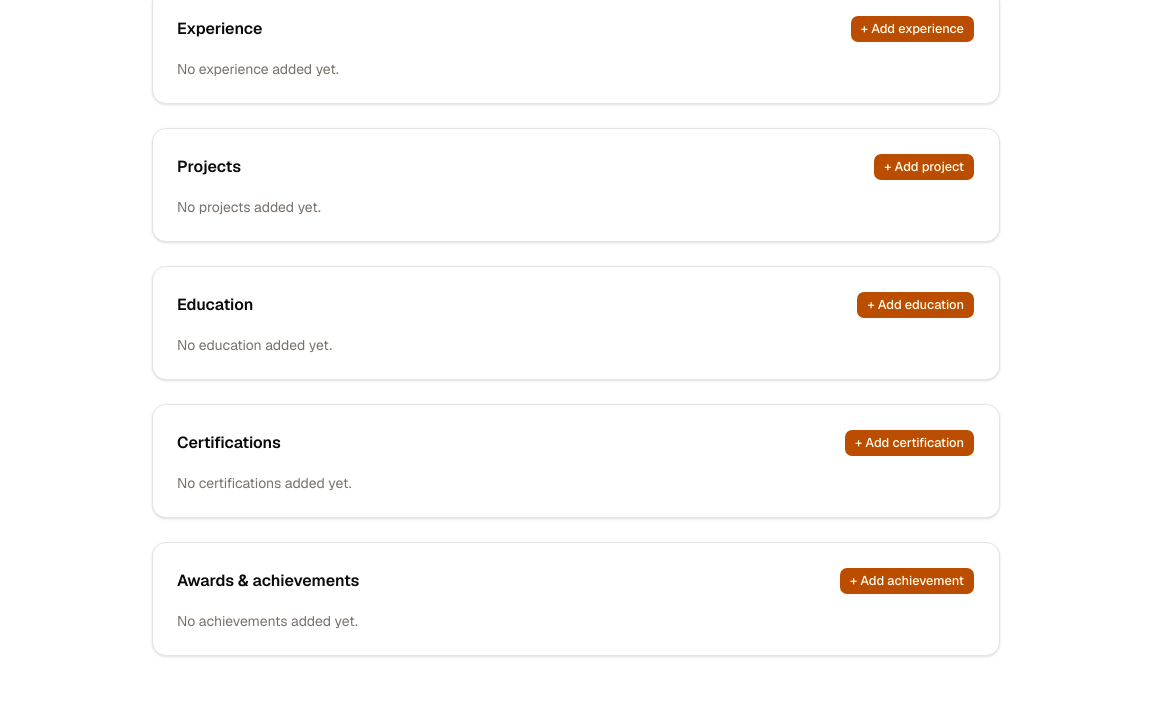
Test case: ProfilePage › shows an error message when adding an achievement fails, without crashing the page
(page scrolled)
Expected: the text "No achievements added yet." is shown, [177,612,358,630]
Click the button "+ Add achievement" at (907, 581), box [839,567,975,595]
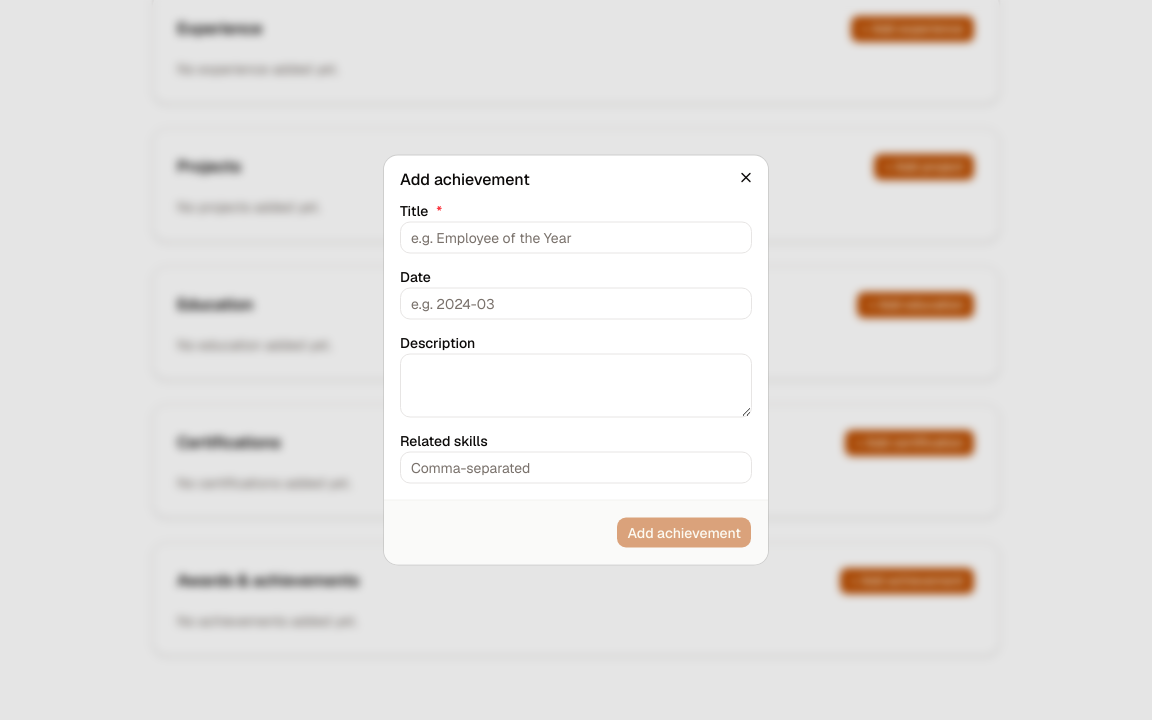
Type "New Award" into the field labelled "Title *" at (576, 238), box [400,222,752,254]
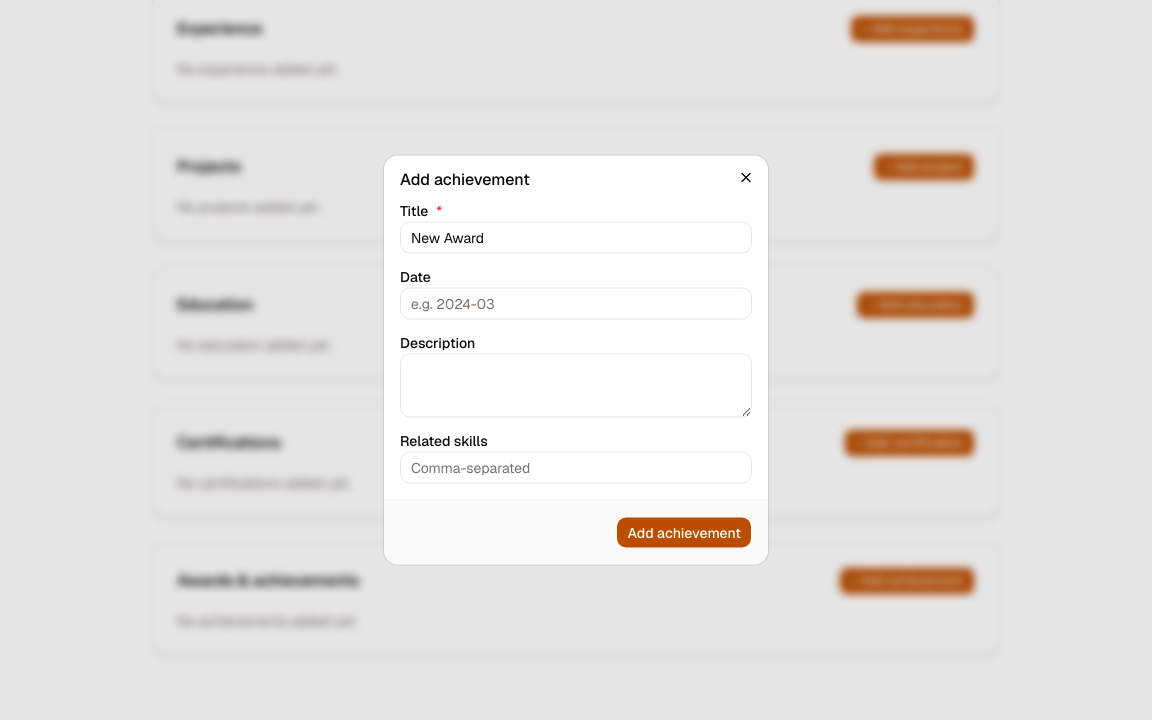
Click the button "Add achievement" at (684, 532), box [616,516,752,548]
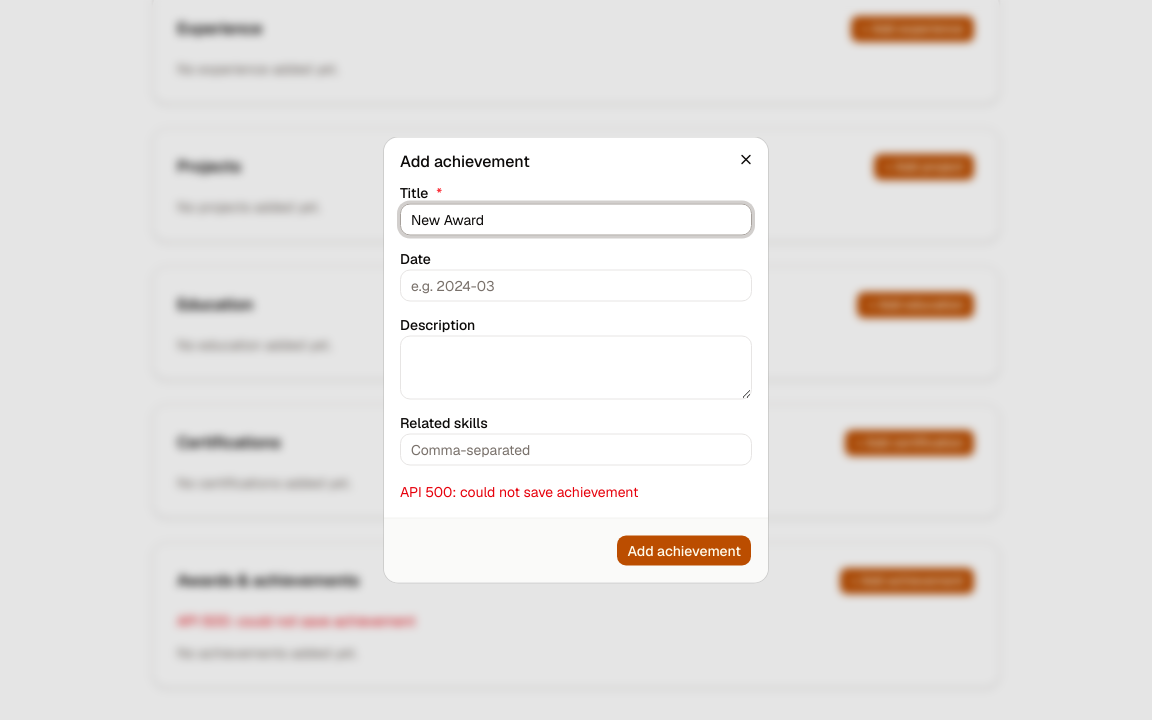
Expected: the text "API 500: could not save achievement" is shown 2 times, [177,612,415,630]; [400,482,638,500]
